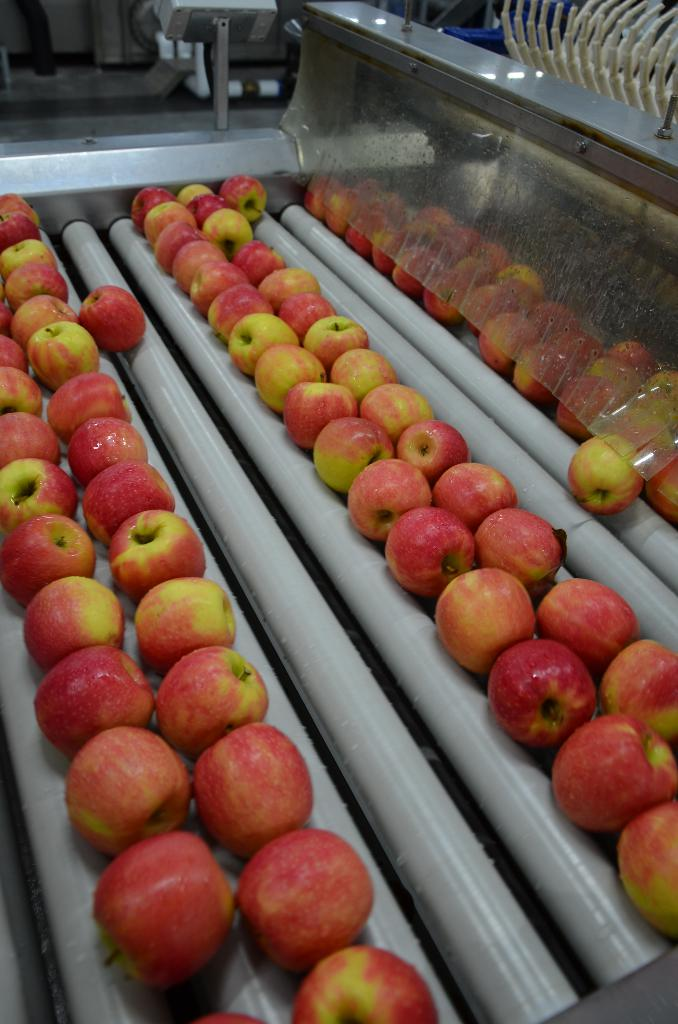Apple: (127, 179, 677, 938), (0, 191, 444, 1023), (302, 175, 677, 520), (90, 829, 234, 991), (435, 553, 543, 672)
